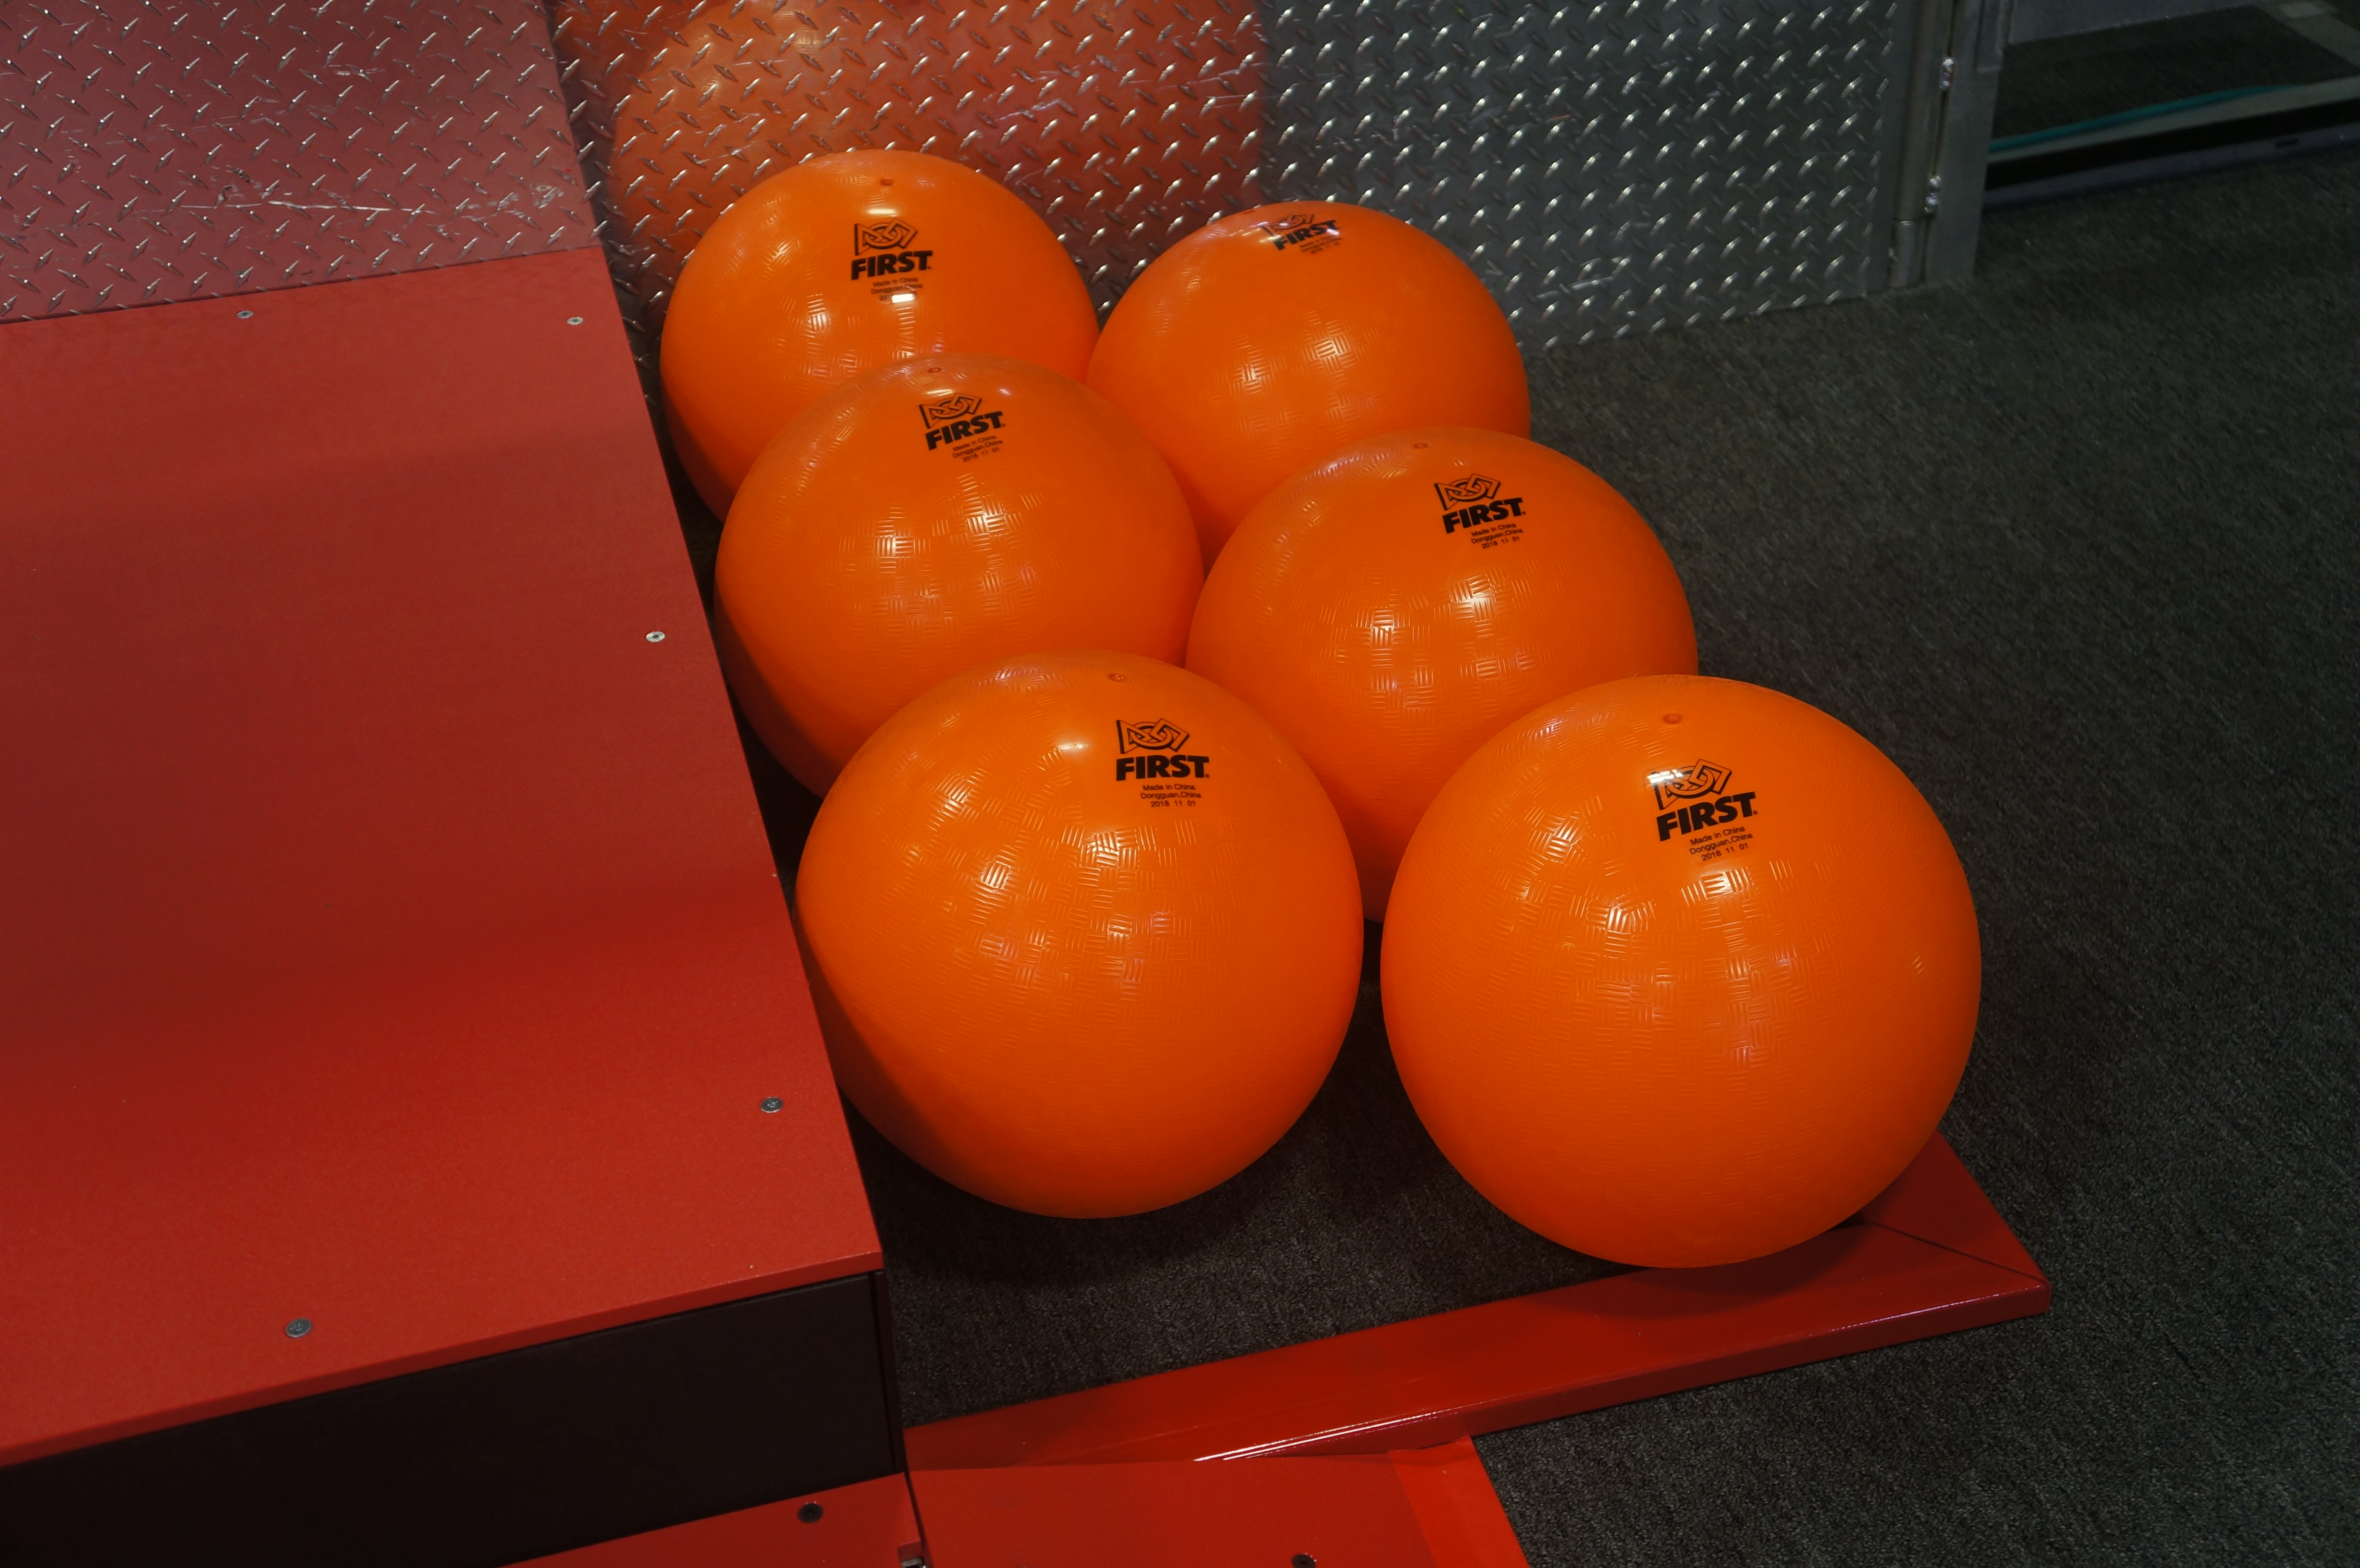Ball: (1373, 674, 1991, 1269), (791, 644, 1368, 1221), (1186, 425, 1706, 931), (709, 341, 1202, 815), (656, 133, 1099, 532), (1100, 194, 1534, 600)
